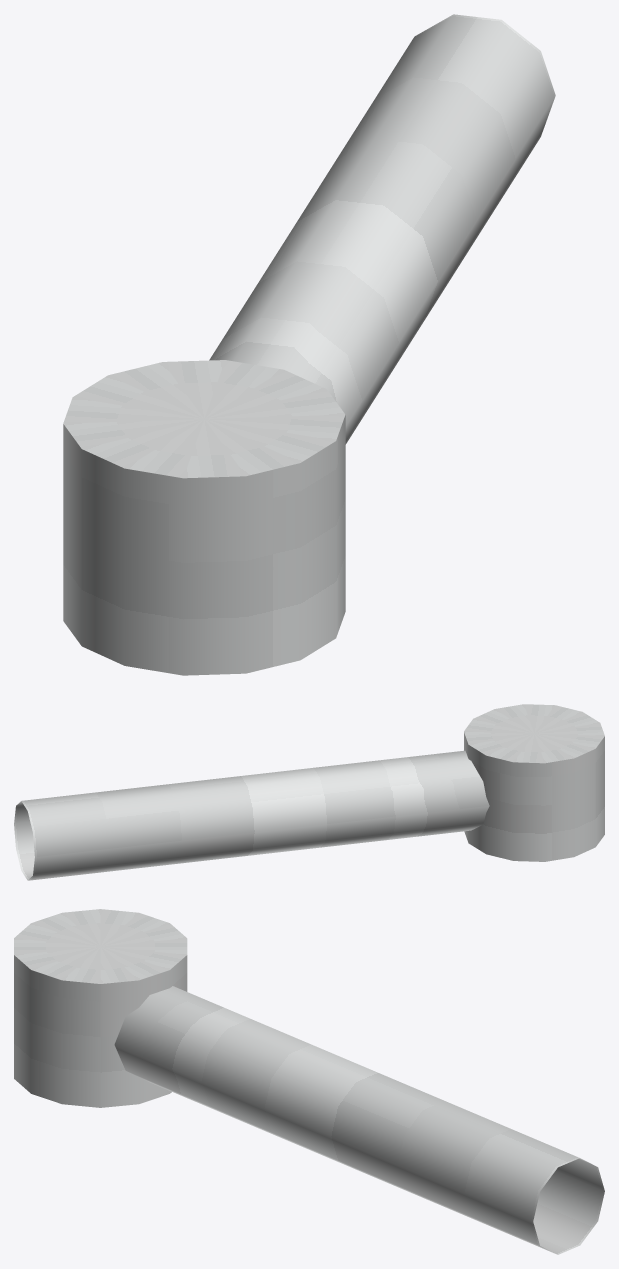
File: trusssignalarm_diagonal5_c0_thin.obj
The picture shows the model from 3 angles, top to bottom: view 1: azimuth 30°, elevation 25°; view 2: azimuth 150°, elevation 25°; view 3: azimuth 270°, elevation 25°; orthographic projection. The views are drawn at different scales.
Parts seen in each view (by area): view 1: trusssignalarm_diagonal5_c0_thin; view 2: trusssignalarm_diagonal5_c0_thin; view 3: trusssignalarm_diagonal5_c0_thin.
Part boxes in pixels (x1,y1,x2,y2): trusssignalarm_diagonal5_c0_thin: (63, 14, 555, 675); trusssignalarm_diagonal5_c0_thin: (14, 704, 604, 880); trusssignalarm_diagonal5_c0_thin: (14, 909, 604, 1254).
Bounding box in the file's own units: 1.9 × 0.4375 × 1.89.
